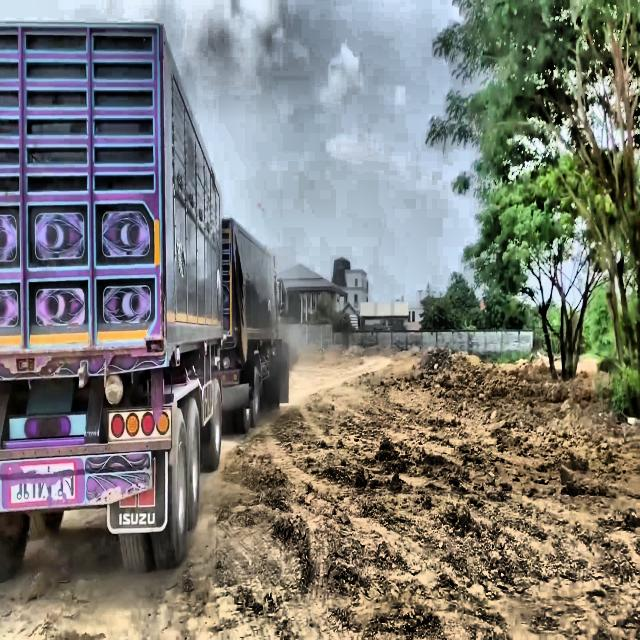trailer: (0, 14, 288, 574)
